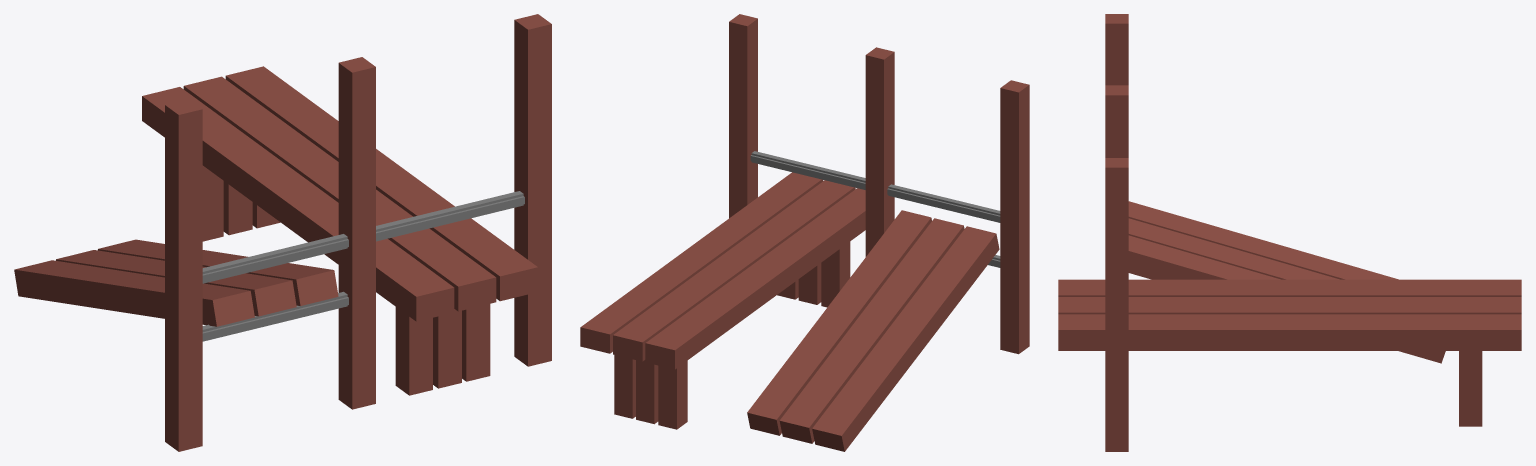
Rendered from furniture5.fbx.
The picture shows the model from 3 angles, left to right: view 1: azimuth 30°, elevation 25°; view 2: azimuth 150°, elevation 25°; view 3: azimuth 270°, elevation 25°; orthographic projection. The views are drawn at different scales.
Parts seen in each view (by area): view 1: Cube.022, Cube.030, Cube.028, Cube.029, Cube.023, Cube.024, Cube.031, Cube.032, Cube.033, Cube.027, Cylinder.043, Cylinder.044 (+5 smaller); view 2: Cube.031, Cube.022, Cube.032, Cube.033, Cube.030, Cube.024, Cube.023, Cube.028, Cube.029, Cube.036, Cylinder.043, Cylinder.044 (+4 smaller); view 3: Cube.024, Cube.022, Cube.023, Cube.029, Cube.031, Cube.033, Cube.032, Cube.035, Cube.028, Cube.030.
Part boxes in pixels (x1,y1,x2,y2): Cube.022: [142, 87, 454, 321]; Cube.030: [165, 99, 202, 451]; Cube.028: [338, 57, 375, 409]; Cube.029: [514, 14, 551, 366]; Cube.023: [183, 76, 496, 311]; Cube.024: [225, 66, 537, 301]; Cube.031: [14, 260, 254, 326]; Cube.032: [56, 250, 296, 316]; Cube.033: [98, 239, 338, 305]; Cube.027: [395, 307, 432, 395]; Cylinder.043: [376, 191, 524, 241]; Cylinder.044: [202, 234, 348, 283]; Cube.031: [812, 226, 999, 451]; Cube.022: [645, 188, 865, 369]; Cube.032: [779, 218, 964, 443]; Cube.033: [747, 210, 931, 435]; Cube.030: [1000, 80, 1029, 354]; Cube.024: [580, 172, 823, 353]; Cube.023: [613, 180, 855, 361]; Cube.028: [865, 47, 894, 256]; Cube.029: [729, 14, 757, 218]; Cube.036: [658, 360, 687, 429]; Cylinder.043: [750, 151, 865, 189]; Cylinder.044: [887, 184, 1000, 222]; Cube.024: [1058, 314, 1521, 350]; Cube.022: [1058, 279, 1521, 296]; Cube.023: [1058, 297, 1521, 314]; Cube.029: [1105, 158, 1128, 451]; Cube.031: [1128, 201, 1398, 279]; Cube.033: [1128, 235, 1445, 363]; Cube.032: [1128, 218, 1339, 279]; Cube.035: [1459, 351, 1482, 426]; Cube.028: [1105, 85, 1128, 157]; Cube.030: [1105, 14, 1128, 85].
Size of the model in its own units: 157 by 135 by 200.
